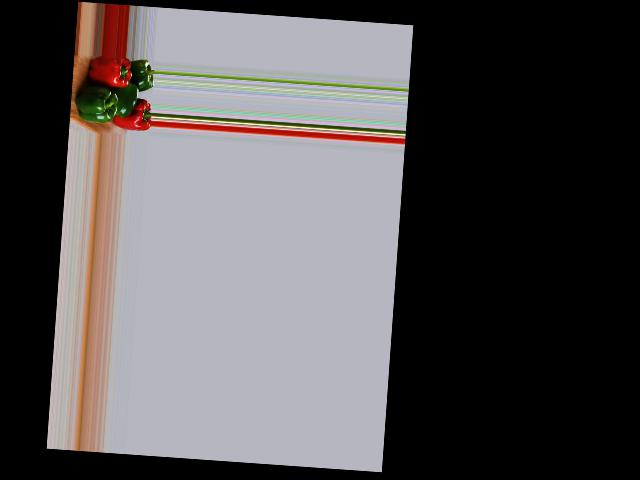bell_pepper: (83, 55, 131, 90)
